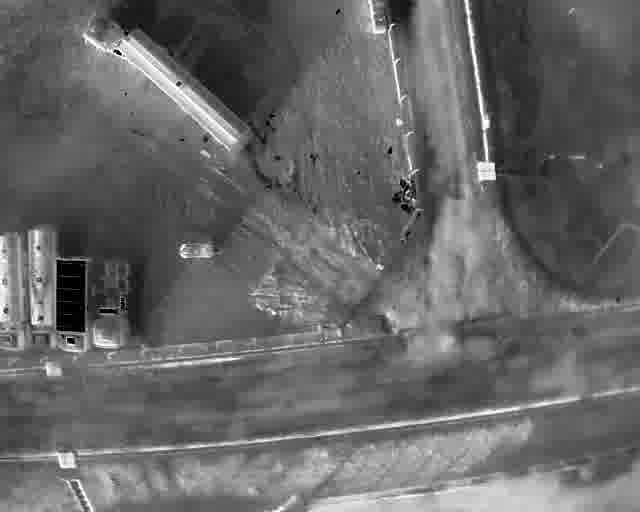truck: (80, 12, 254, 157), (92, 255, 133, 347), (27, 224, 56, 351), (55, 255, 91, 352), (0, 231, 26, 351)
